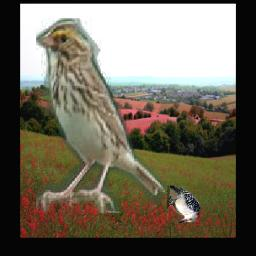Sparrow: (37, 19, 166, 214)
Woodpecker: (167, 187, 200, 224)
